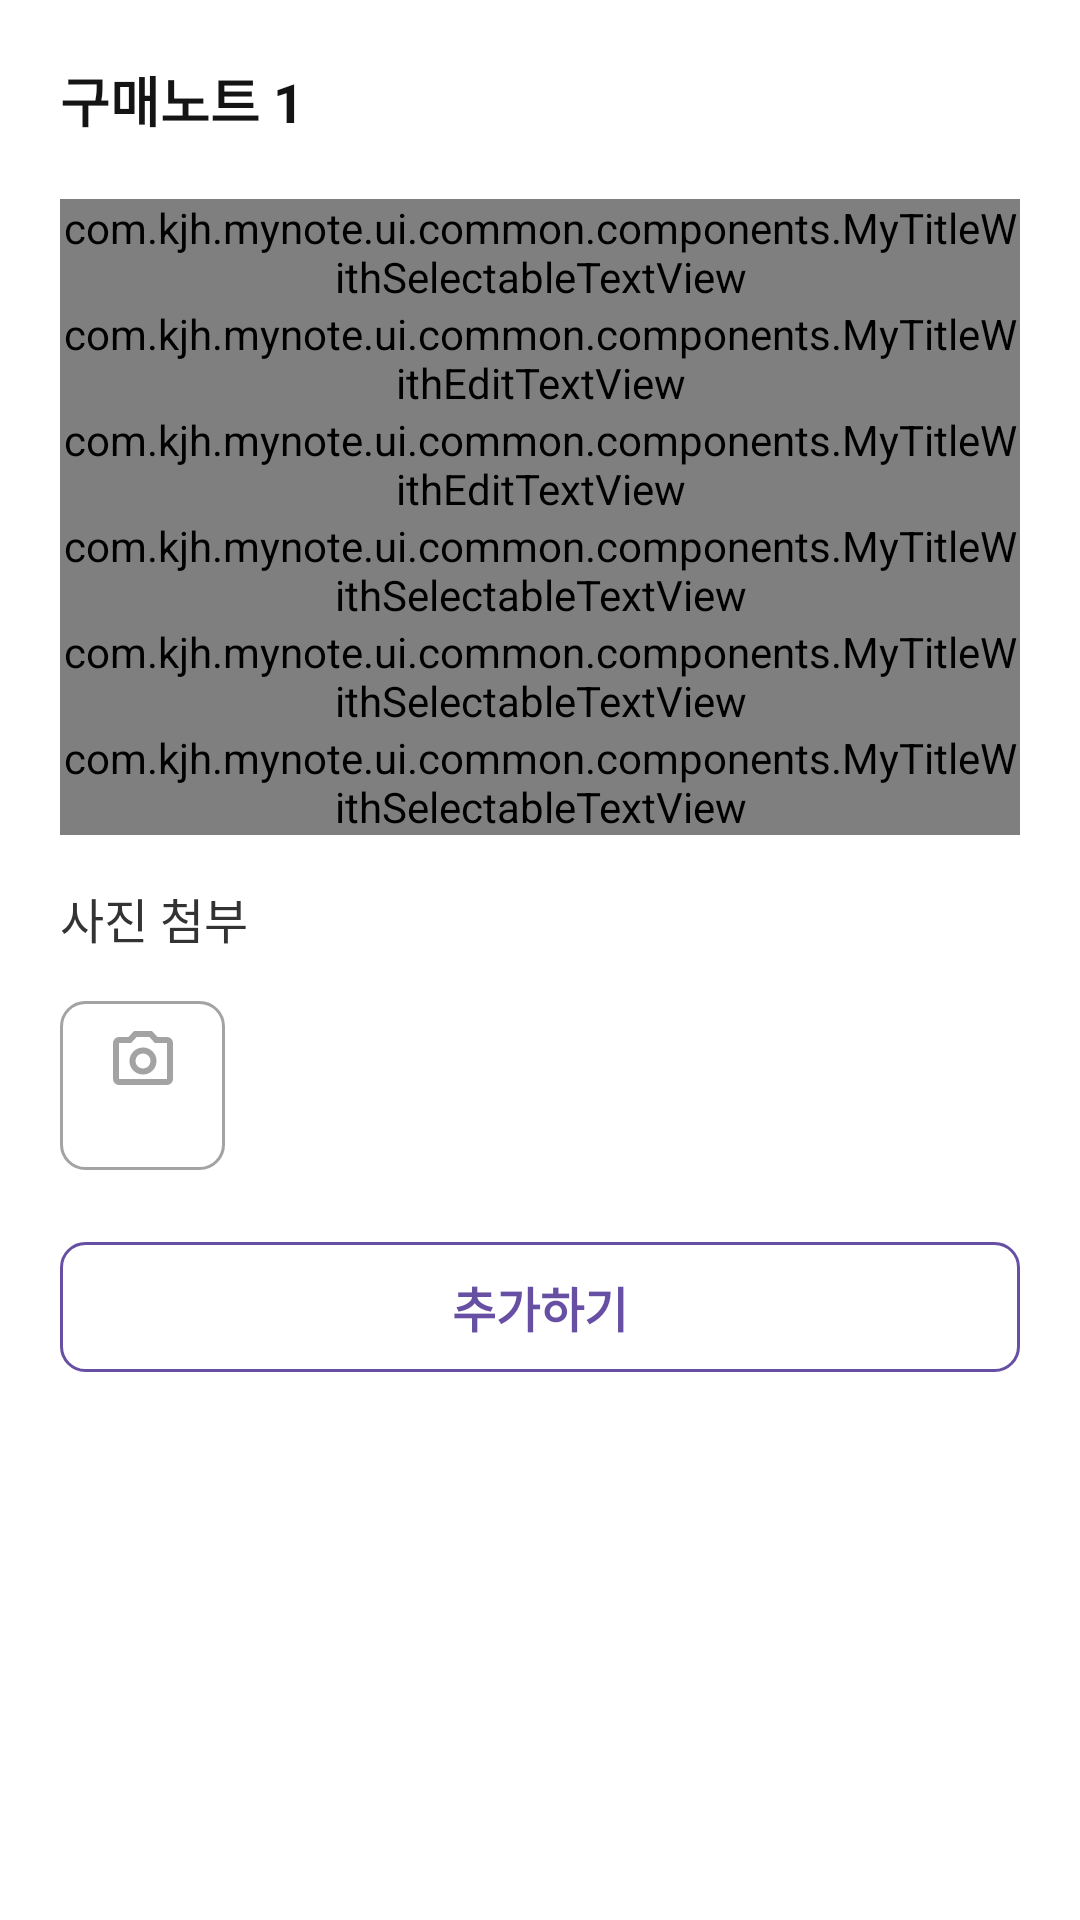

Locate icon controls on the screen. Image size 1080px x 1920px, boxes as Rect(x1, y1, x2, y2).
camera: Rect(113, 1031, 173, 1085)
